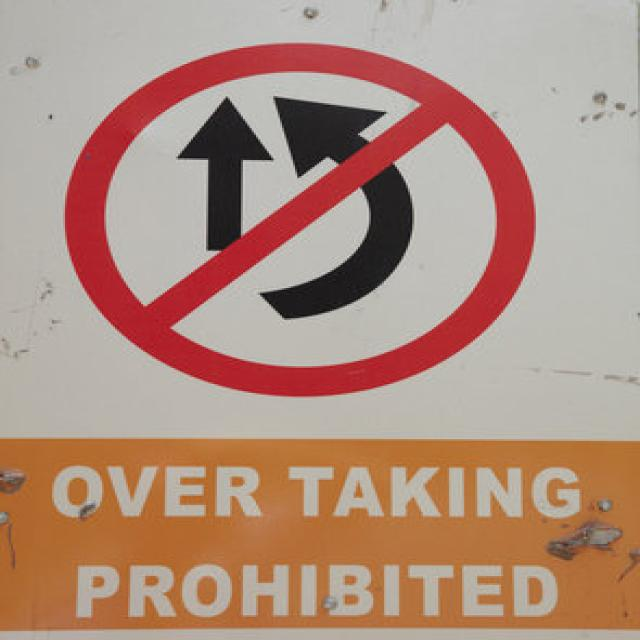OVERTAKING_PROHIBITED: (59, 43, 539, 401)
